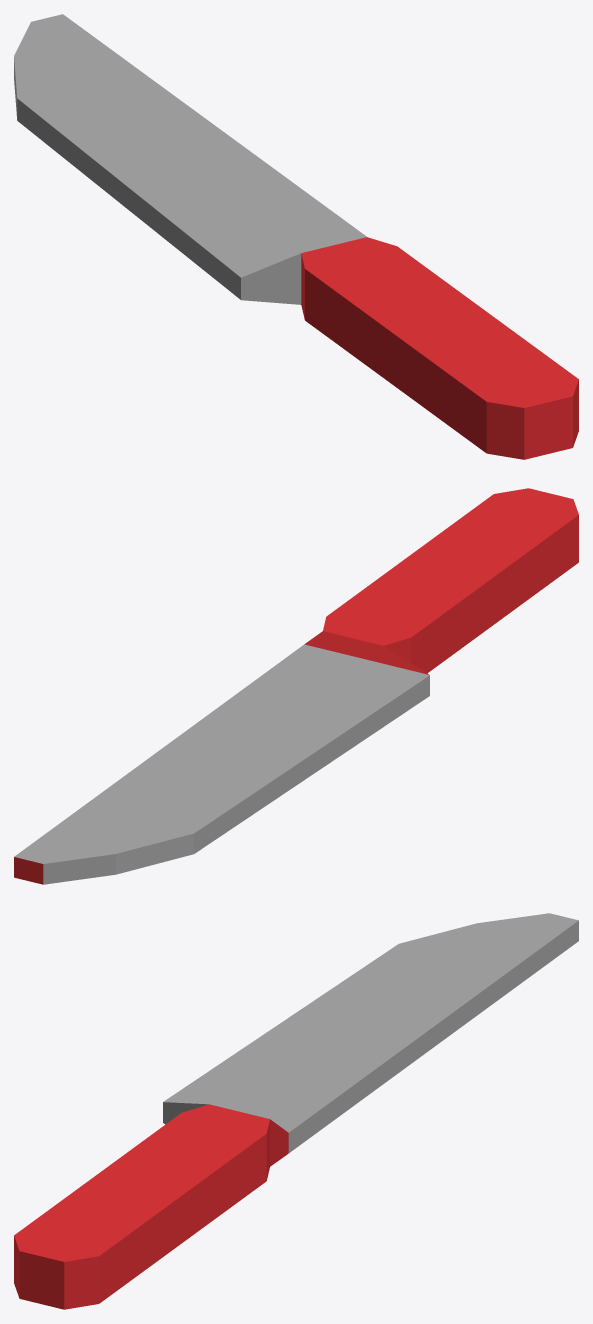
The model's file is knife.fbx.
The picture shows the model from 3 angles, top to bottom: view 1: azimuth 30°, elevation 25°; view 2: azimuth 150°, elevation 25°; view 3: azimuth 330°, elevation 25°; orthographic projection. The views are drawn at different scales.
Visible parts, largest first — view 1: Knife; view 2: Knife; view 3: Knife.
Part boxes in pixels (x1,y1,x2,y2): Knife: (14, 14, 578, 459); Knife: (14, 488, 578, 884); Knife: (14, 913, 578, 1309).
Size of the model in its own units: 11.68 by 79.11 by 4.23.
